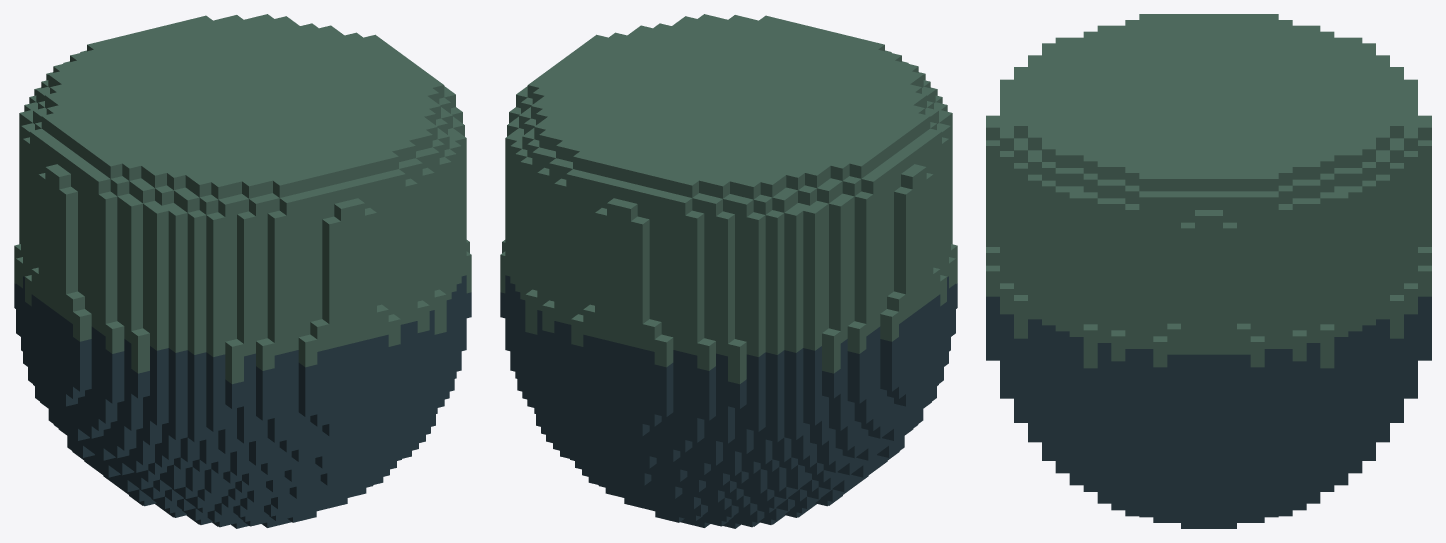
Rendered from grass.obj.
The picture shows the model from 3 angles, left to right: view 1: azimuth 30°, elevation 25°; view 2: azimuth 150°, elevation 25°; view 3: azimuth 270°, elevation 25°; orthographic projection.
Bounding box in the file's own units: 3.2 × 3.2 × 3.2.
